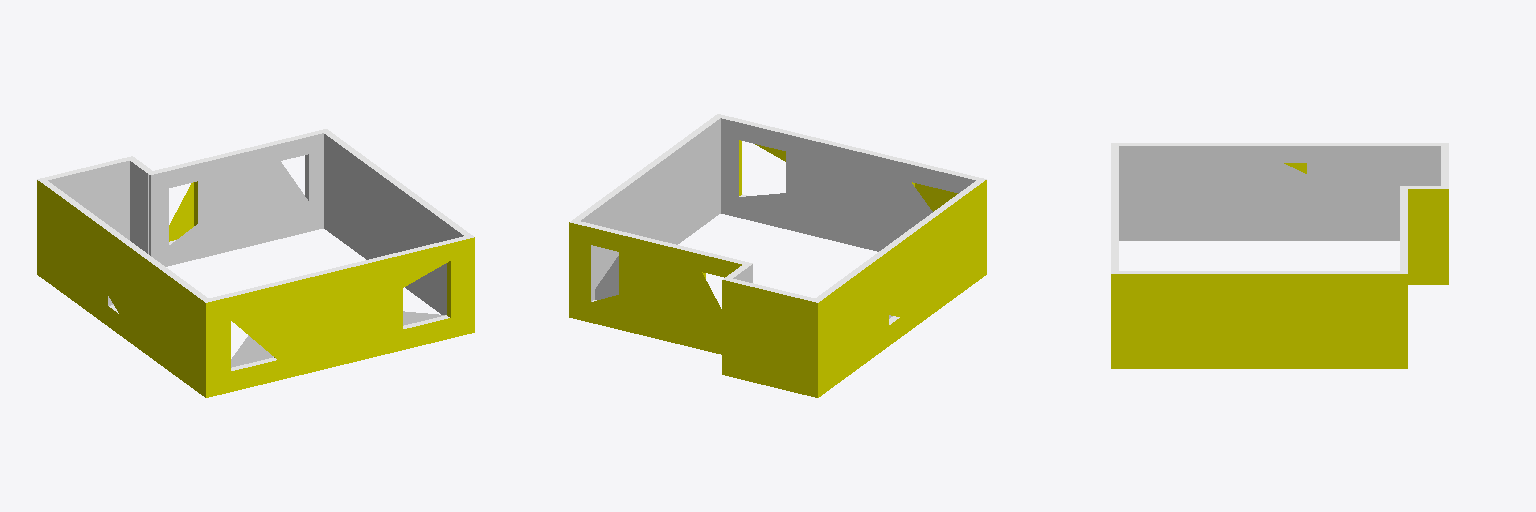
Rendered from 2_outline_with_openings.obj.
The picture shows the model from 3 angles: view 1: azimuth 30°, elevation 25°; view 2: azimuth 150°, elevation 25°; view 3: azimuth 270°, elevation 25°; orthographic projection.
Visible parts, largest first — view 1: Outline_Walls; view 2: Outline_Walls; view 3: Outline_Walls.
Part boxes in pixels (left/top/right/bottom): Outline_Walls: left=37, top=129, right=474, bottom=397; Outline_Walls: left=569, top=114, right=986, bottom=397; Outline_Walls: left=1111, top=143, right=1448, bottom=368.
Size of the model in its own units: 8.87 by 3 by 9.64.